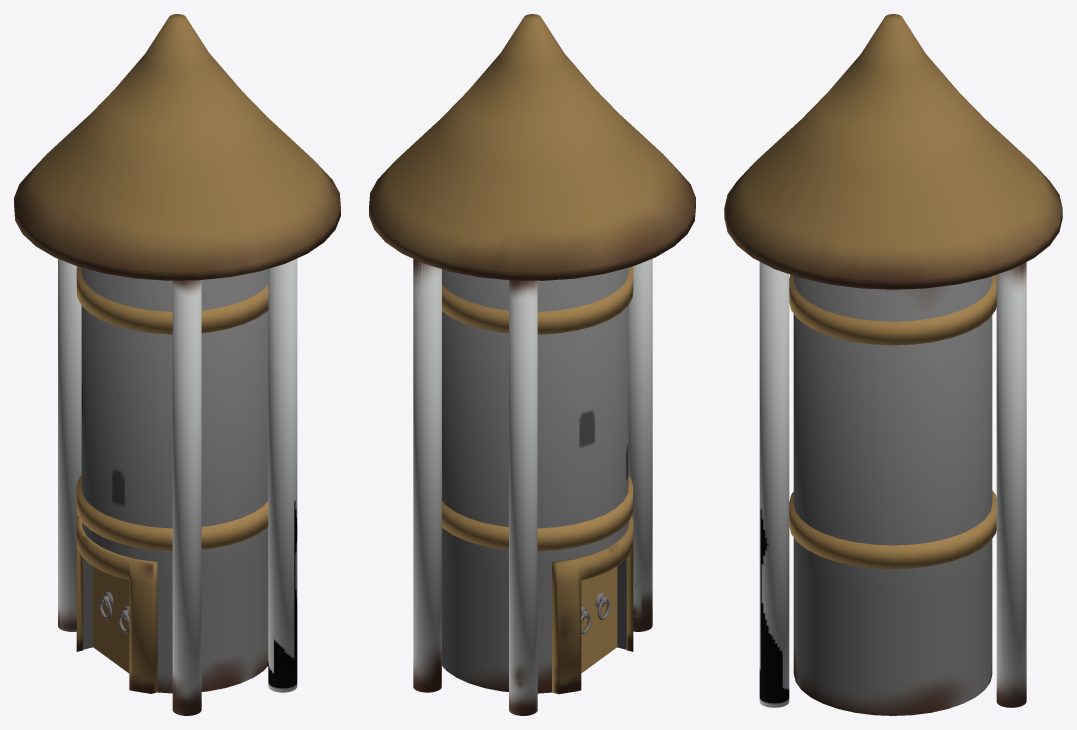
The model's file is silo.fbx.
3 views of the same model, side by side, from view 1: azimuth 30°, elevation 25°; view 2: azimuth 150°, elevation 25°; view 3: azimuth 270°, elevation 25° (orthographic). The views are drawn at different scales.
Visible parts, largest first — view 1: roof, silo, pillar3, pillar4, pillar1, door_deco, deco1, deco2, door, inset_walls; view 2: roof, silo, pillar1, pillar2, pillar3, door_deco, deco1, deco2, door, inset_walls; view 3: silo, roof, pillar4, pillar2, deco1, deco2.
Boxes of the visible parts, <box> form: roof: <box>14,14,340,280</box>; silo: <box>81,267,268,693</box>; pillar3: <box>172,280,201,715</box>; pillar4: <box>268,258,297,692</box>; pillar1: <box>58,259,81,631</box>; door_deco: <box>76,516,157,693</box>; deco1: <box>76,475,268,550</box>; deco2: <box>76,266,268,334</box>; door: <box>93,566,129,673</box>; inset_walls: <box>83,558,92,649</box>; roof: <box>369,14,695,280</box>; silo: <box>442,267,628,693</box>; pillar1: <box>509,280,537,715</box>; pillar2: <box>413,259,441,692</box>; pillar3: <box>628,258,652,631</box>; door_deco: <box>552,516,633,694</box>; deco1: <box>442,475,633,551</box>; deco2: <box>442,266,633,334</box>; door: <box>581,566,617,673</box>; inset_walls: <box>617,559,626,649</box>; silo: <box>793,276,992,715</box>; roof: <box>724,14,1062,289</box>; pillar4: <box>759,262,789,707</box>; pillar2: <box>996,262,1026,707</box>; deco1: <box>789,490,996,568</box>; deco2: <box>789,274,996,345</box>.
Size of the model in its own units: 1127 by 2424 by 1127.
